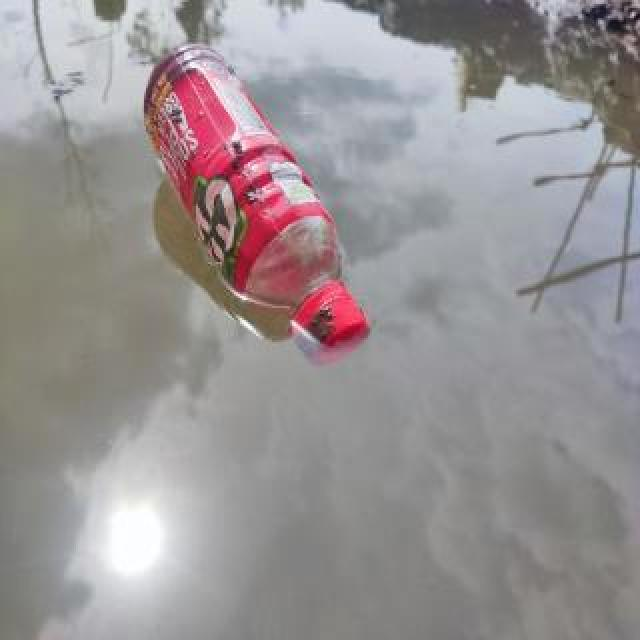bottle: (137, 34, 373, 370)
